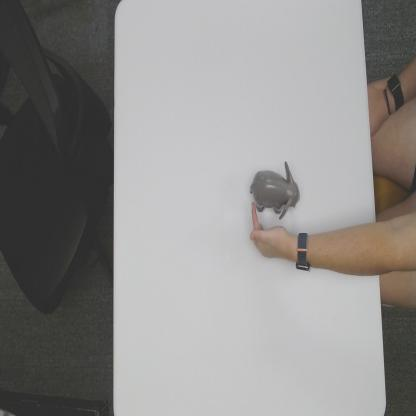Arm: (310, 222, 378, 280)
Elephant: (249, 160, 301, 220)
Hand: (250, 201, 294, 265)
